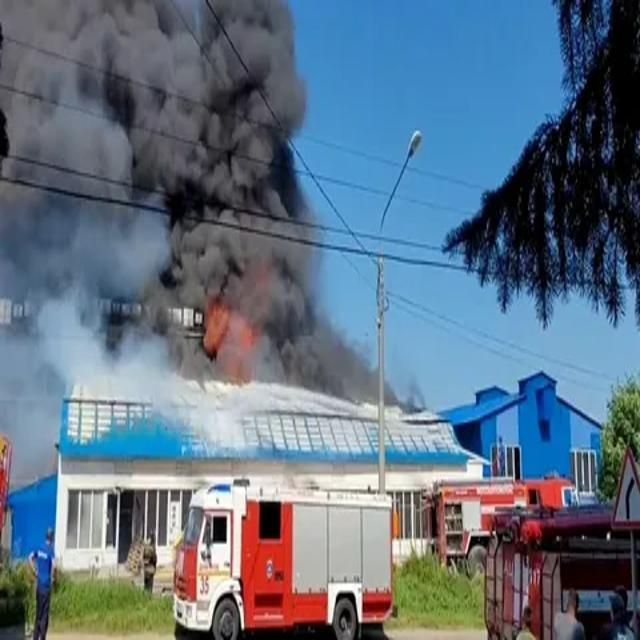Smoke: (1, 1, 424, 414)
